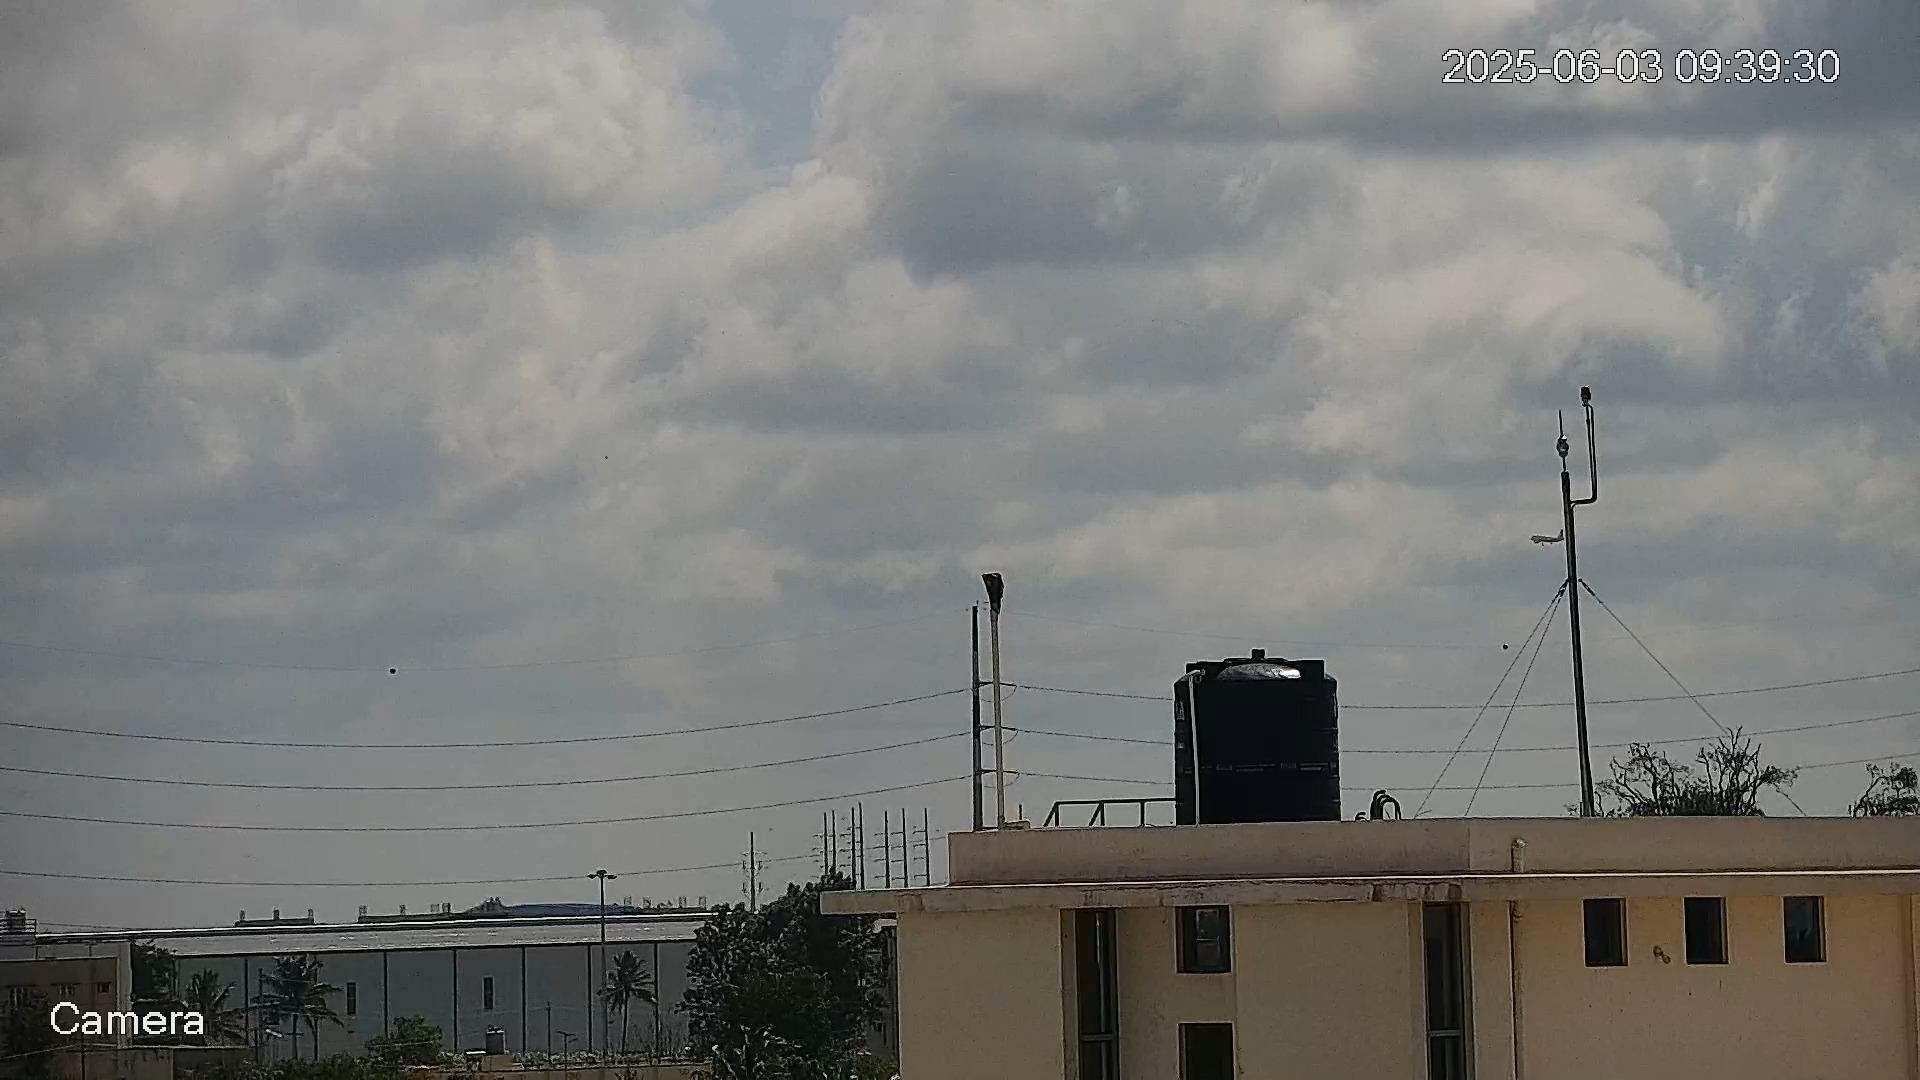Aircraft: (1530, 529, 1564, 546)
